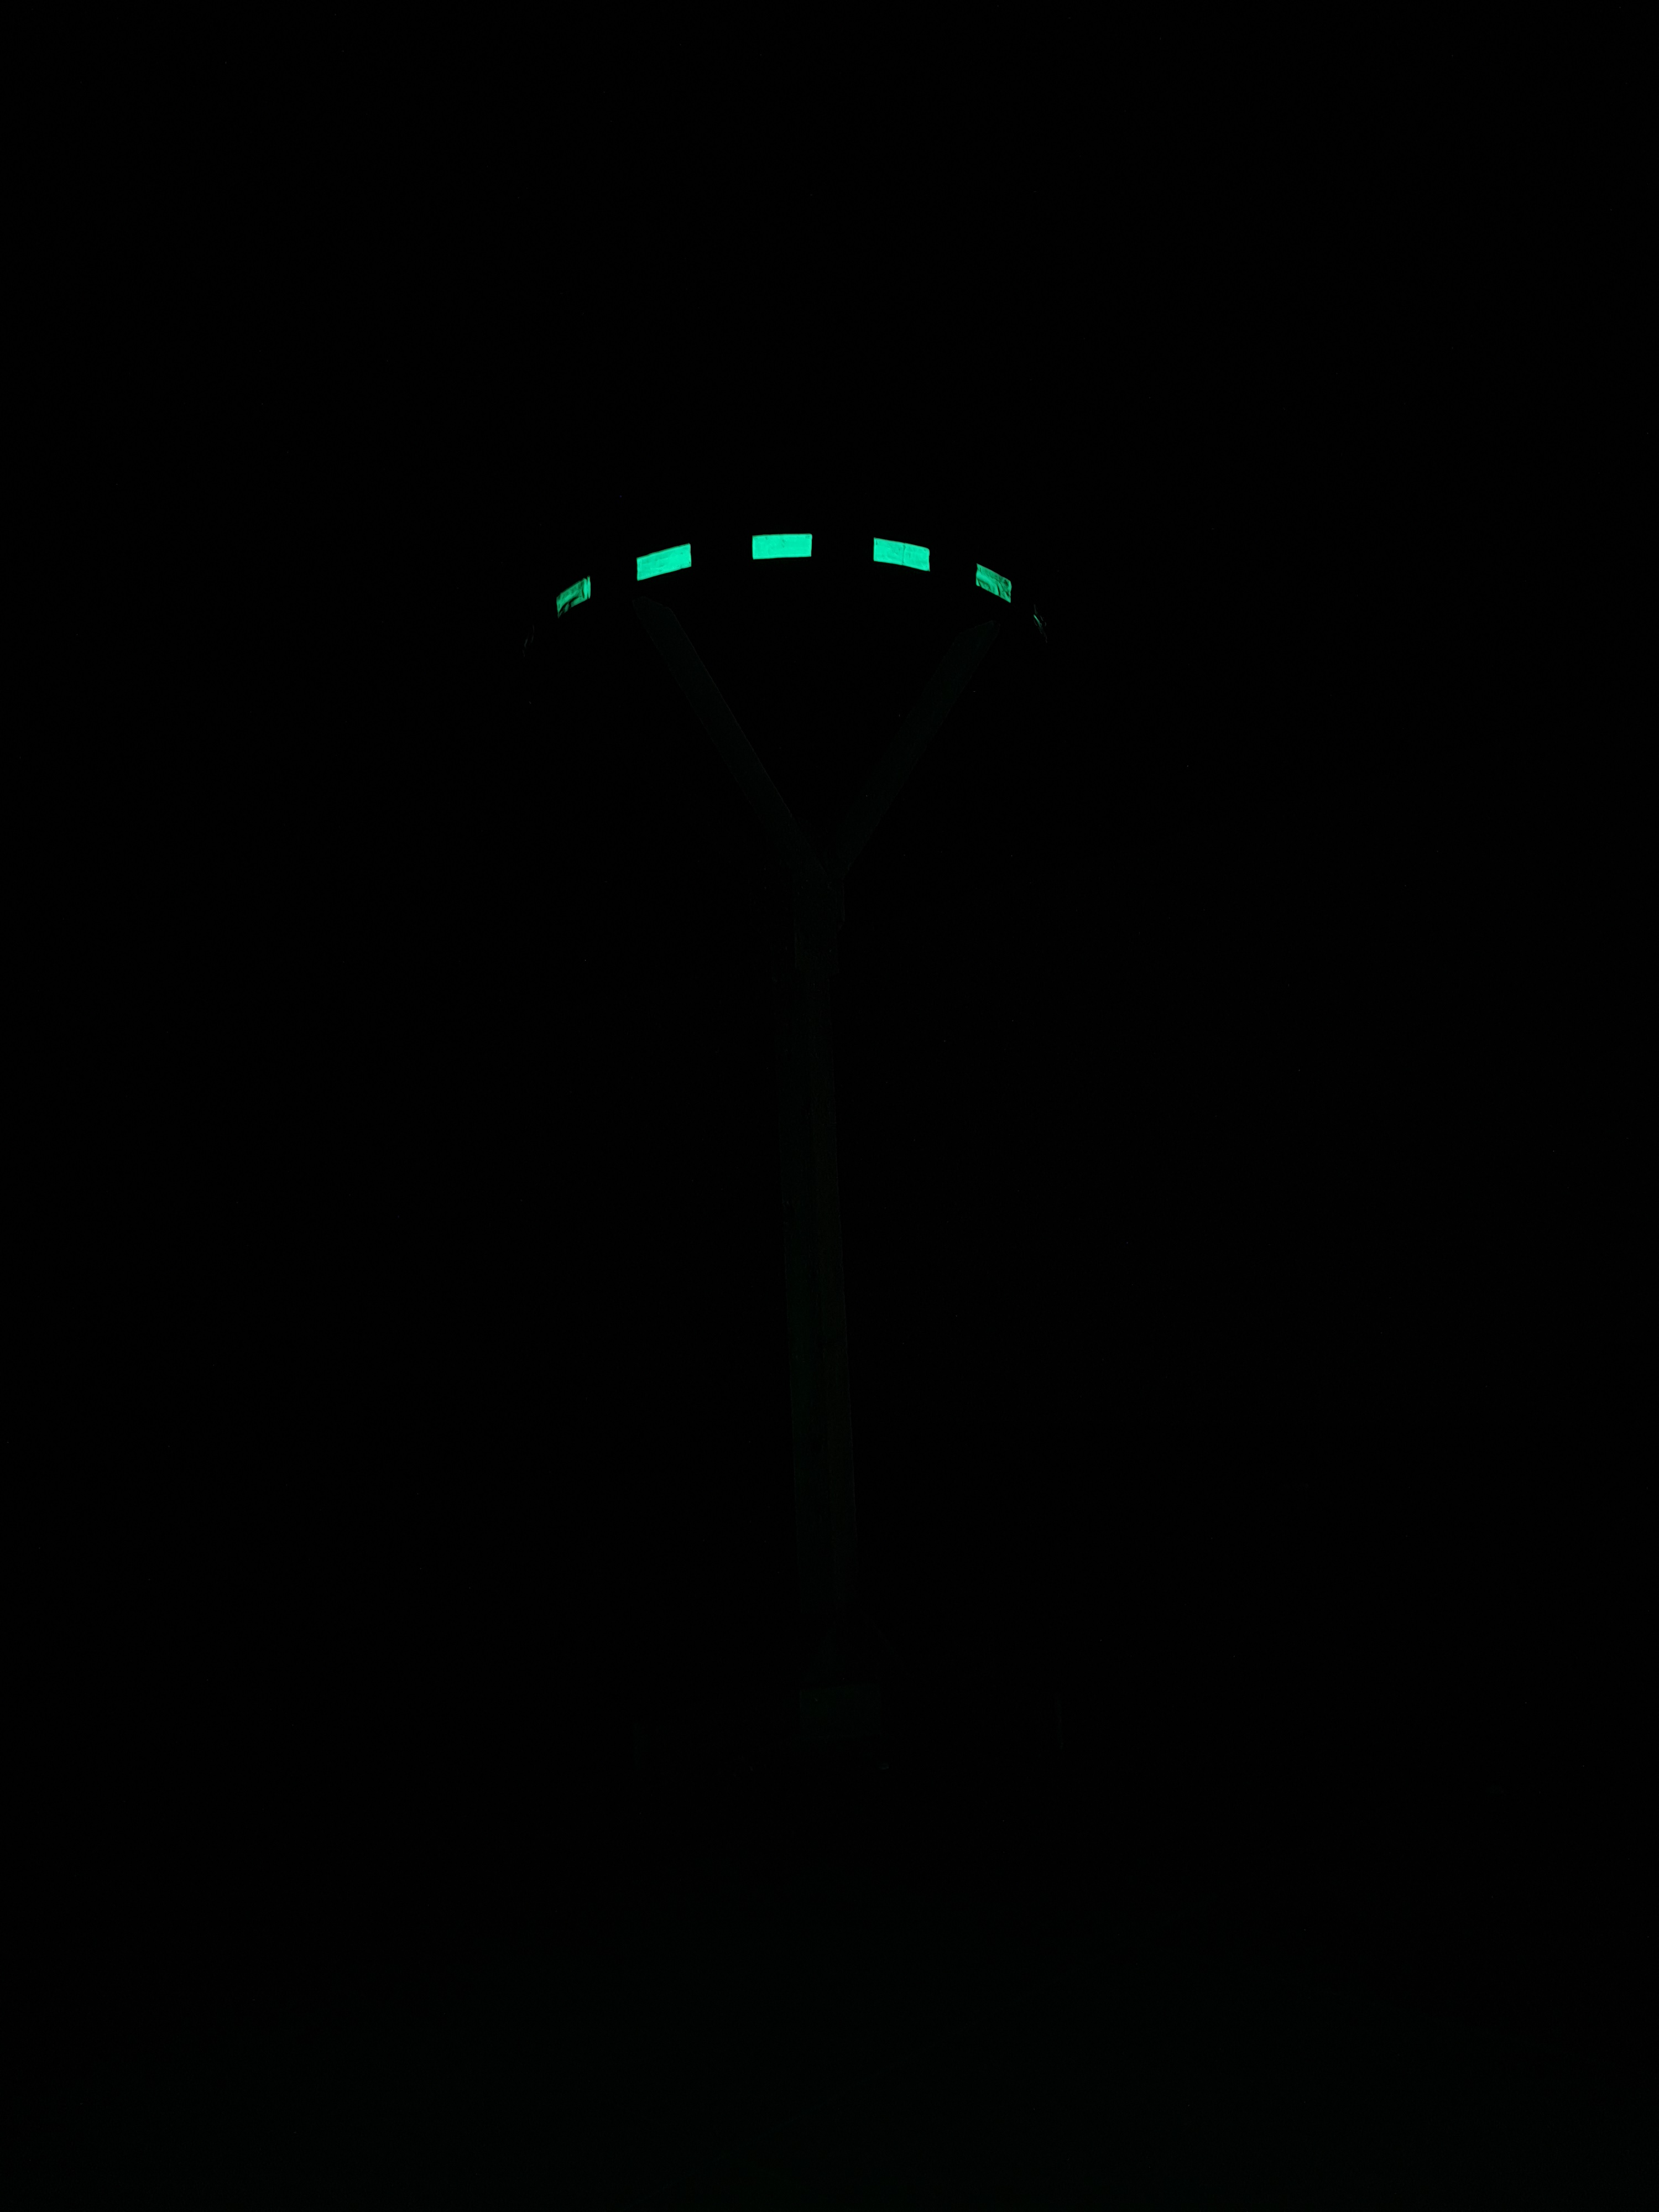hoop: (540, 528, 1019, 618)
